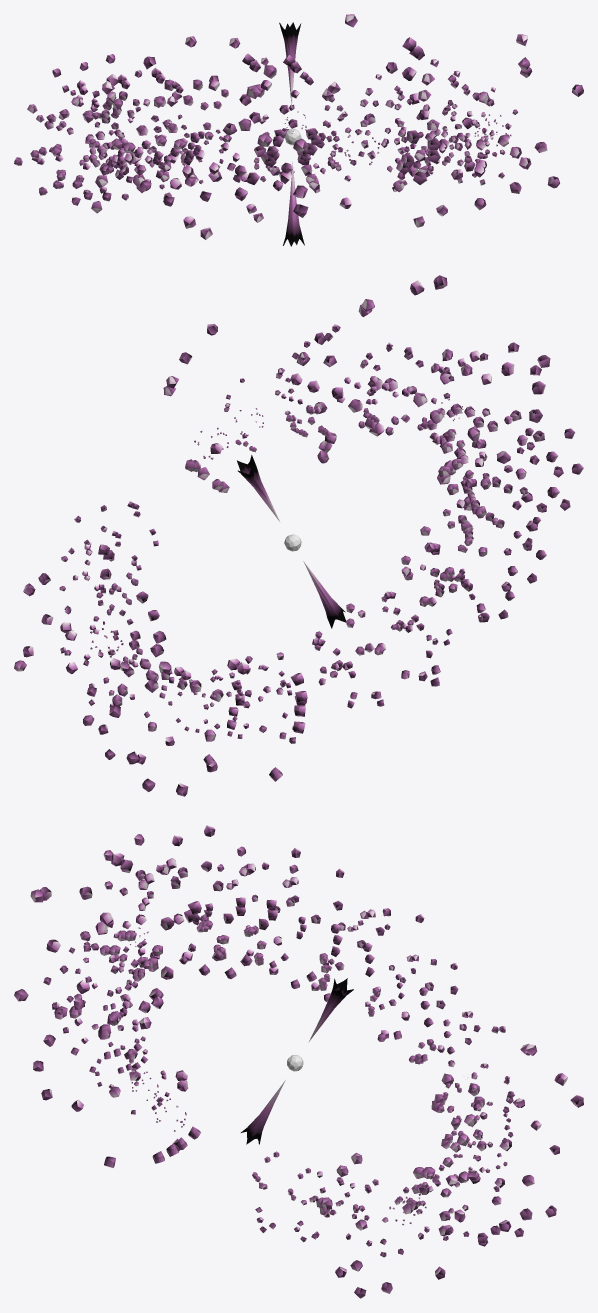
File: Supernova.fbx
3 views of the same model, one above another, from view 1: azimuth 30°, elevation 25°; view 2: azimuth 150°, elevation 25°; view 3: azimuth 270°, elevation 25° (orthographic). The views are drawn at different scales.
Parts seen in each view (by area): view 1: Circle; view 2: Circle; view 3: Circle.
Boxes of the visible parts, bbox=[...] form: Circle: bbox=[14, 14, 583, 246]; Circle: bbox=[14, 275, 583, 796]; Circle: bbox=[14, 825, 583, 1298].
Bounding box in the file's own units: 5026 × 3810 × 5430.
Materials: 3 (2 with a texture image).
